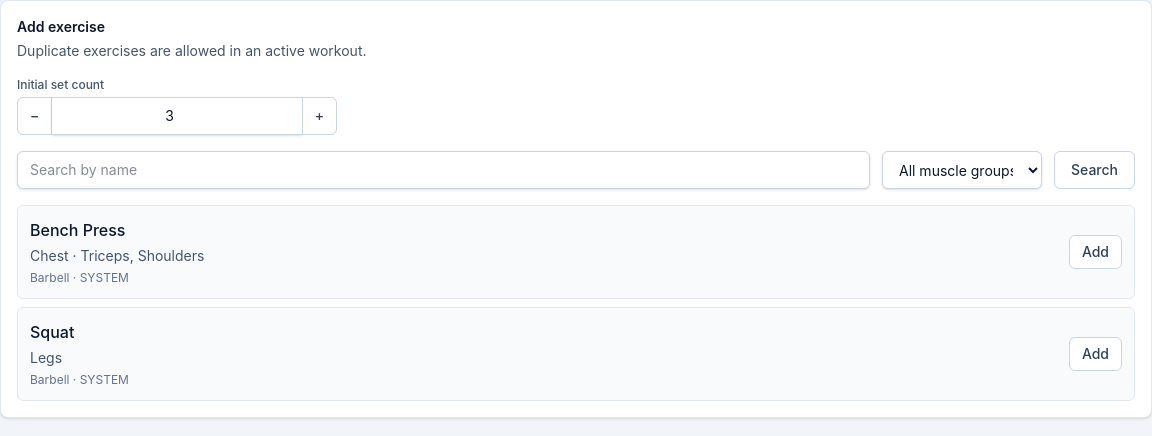
Test: WorkoutAddExercise › keeps all muscle group options available after filtering
Expected: the text "Bench Press" is shown, [30,220,125,240]
Select "Chest" in the dropdown named "Muscle group filter" at (962, 170), box [882,151,1042,189]
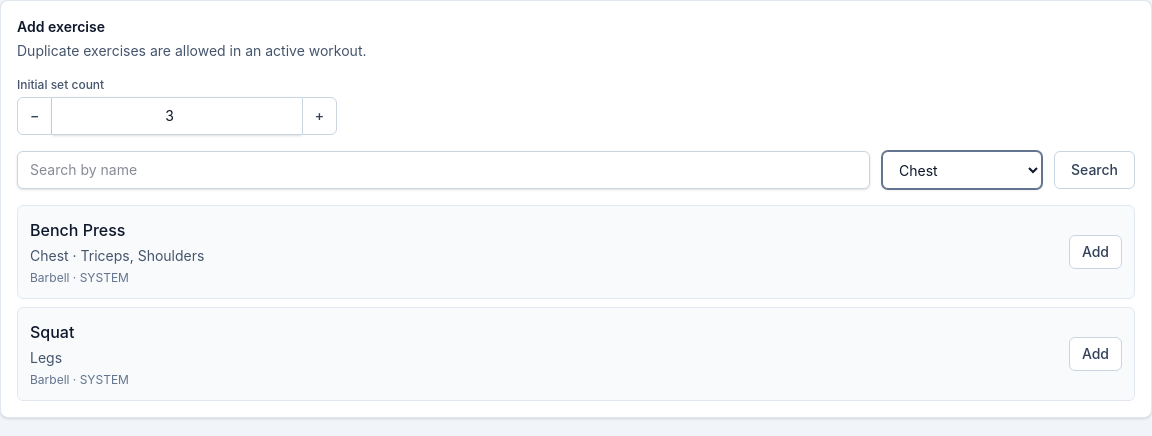
Click the button "Search" at (1094, 170), box [1054,151,1135,189]
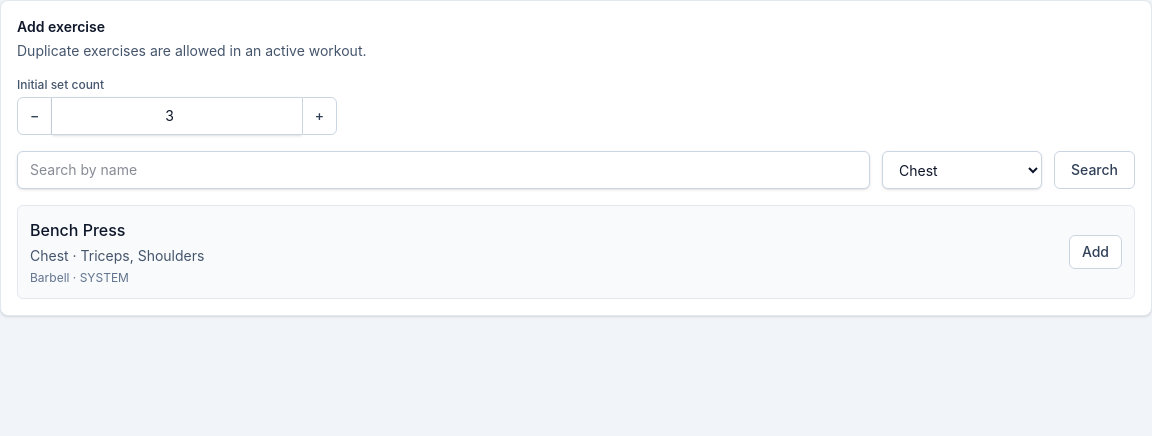
Select "Legs" in the dropdown named "Muscle group filter" at (962, 170), box [882,151,1042,189]
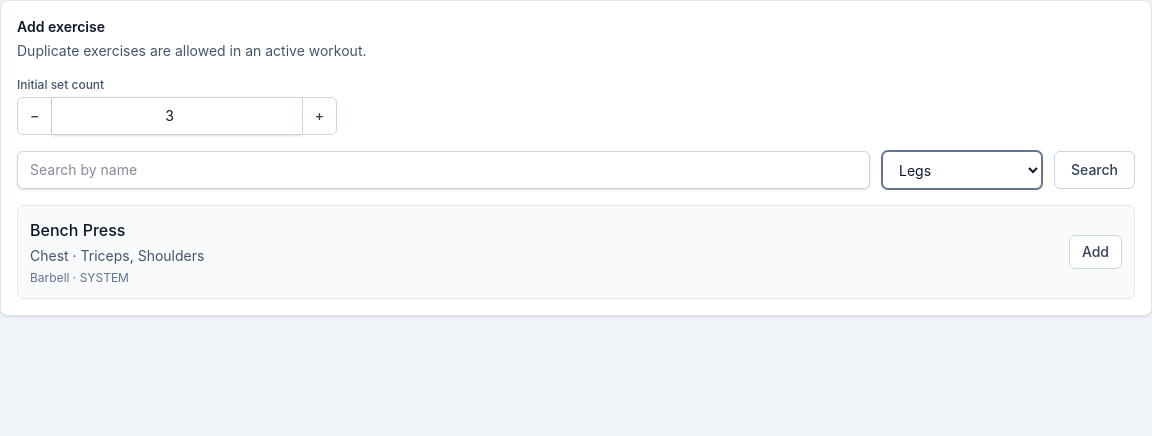
Click the button "Search" at (1094, 170), box [1054,151,1135,189]
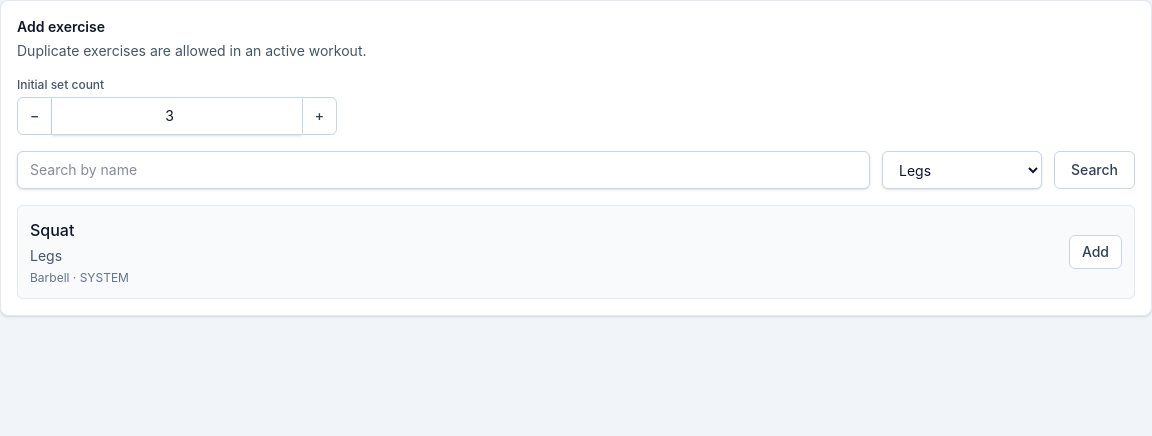
Expected: the text "Squat" is shown, [30,220,74,240]
